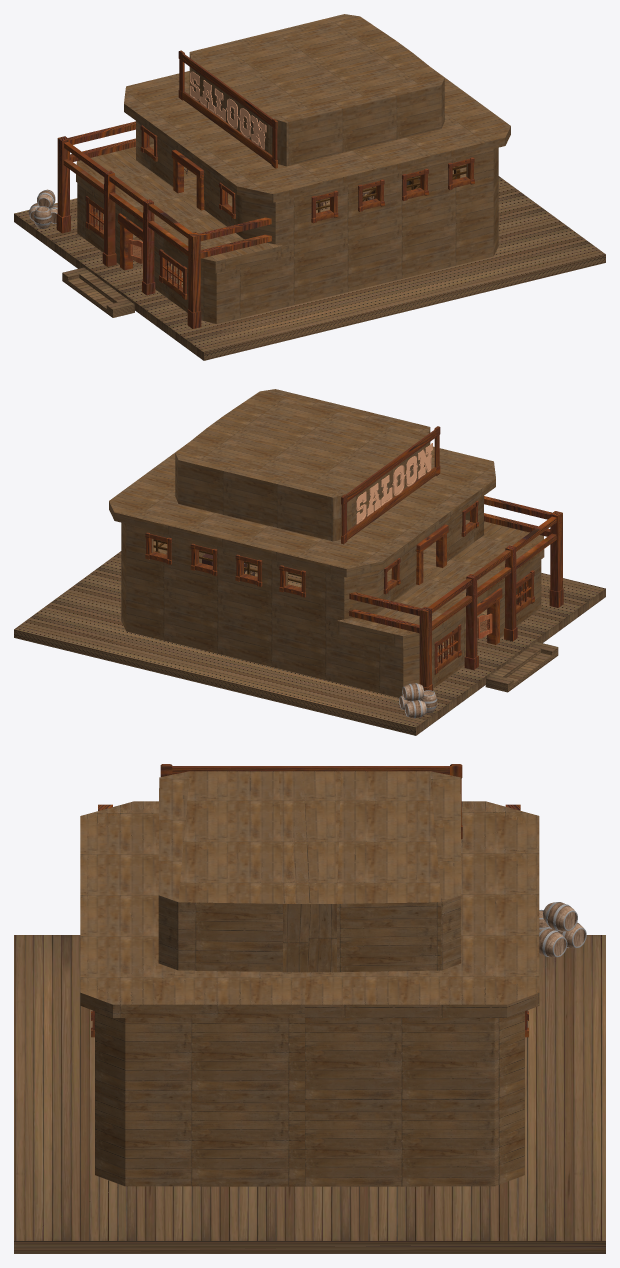
File: saloon.7ec64bff.glb
The picture shows the model from 3 angles, top to bottom: view 1: azimuth 30°, elevation 25°; view 2: azimuth 150°, elevation 25°; view 3: azimuth 270°, elevation 25°; orthographic projection. The views are drawn at different scales.
Visible parts, largest first — view 1: saloon_body, woodfloor, bars, window_frame12, stairs_entrance, SALOON_TEXT, saloon_doorframe_balcony, saloon_doorframe, window_frame1, window_frame4, window_frame5, window_frame6 (+1 smaller); view 2: saloon_body, woodfloor, bars, window_frame12, stairs_entrance, SALOON_TEXT, saloon_doorframe_balcony, saloon_doorframe, window_frame13, window_frame10, window_frame9, window_frame8 (+1 smaller); view 3: saloon_body, woodfloor, window_frame12, barrel3, barrel1.
Part boxes in pixels (x1=…): saloon_body: x1=76, y1=14, x2=510, y2=323; woodfloor: x1=14, y1=176, x2=605, y2=360; bars: x1=56, y1=121, x2=271, y2=328; window_frame12: x1=178, y1=50, x2=277, y2=168; stairs_entrance: x1=62, y1=267, x2=134, y2=317; SALOON_TEXT: x1=190, y1=71, x2=266, y2=149; saloon_doorframe_balcony: x1=171, y1=149, x2=204, y2=210; saloon_doorframe: x1=118, y1=213, x2=142, y2=270; window_frame1: x1=159, y1=249, x2=187, y2=299; window_frame4: x1=311, y1=190, x2=338, y2=223; window_frame5: x1=358, y1=179, x2=384, y2=211; window_frame6: x1=402, y1=168, x2=428, y2=200; saloon_body: x1=109, y1=389, x2=544, y2=697; woodfloor: x1=14, y1=551, x2=605, y2=735; bars: x1=349, y1=496, x2=563, y2=690; window_frame12: x1=341, y1=426, x2=440, y2=544; stairs_entrance: x1=485, y1=642, x2=558, y2=692; SALOON_TEXT: x1=356, y1=443, x2=432, y2=524; saloon_doorframe_balcony: x1=416, y1=524, x2=448, y2=584; saloon_doorframe: x1=477, y1=588, x2=502, y2=644; window_frame13: x1=434, y1=624, x2=461, y2=674; window_frame10: x1=235, y1=554, x2=262, y2=586; window_frame9: x1=190, y1=543, x2=217, y2=575; window_frame8: x1=145, y1=532, x2=171, y2=564; saloon_body: x1=80, y1=771, x2=539, y2=1186; woodfloor: x1=14, y1=935, x2=605, y2=1253; window_frame12: x1=160, y1=764, x2=462, y2=839; barrel3: x1=543, y1=902, x2=577, y2=931; barrel1: x1=539, y1=928, x2=567, y2=957.
Size of what is drawn, in the model's own units: 2.1 by 0.8476 by 1.63.
27 materials, 15 textured.
